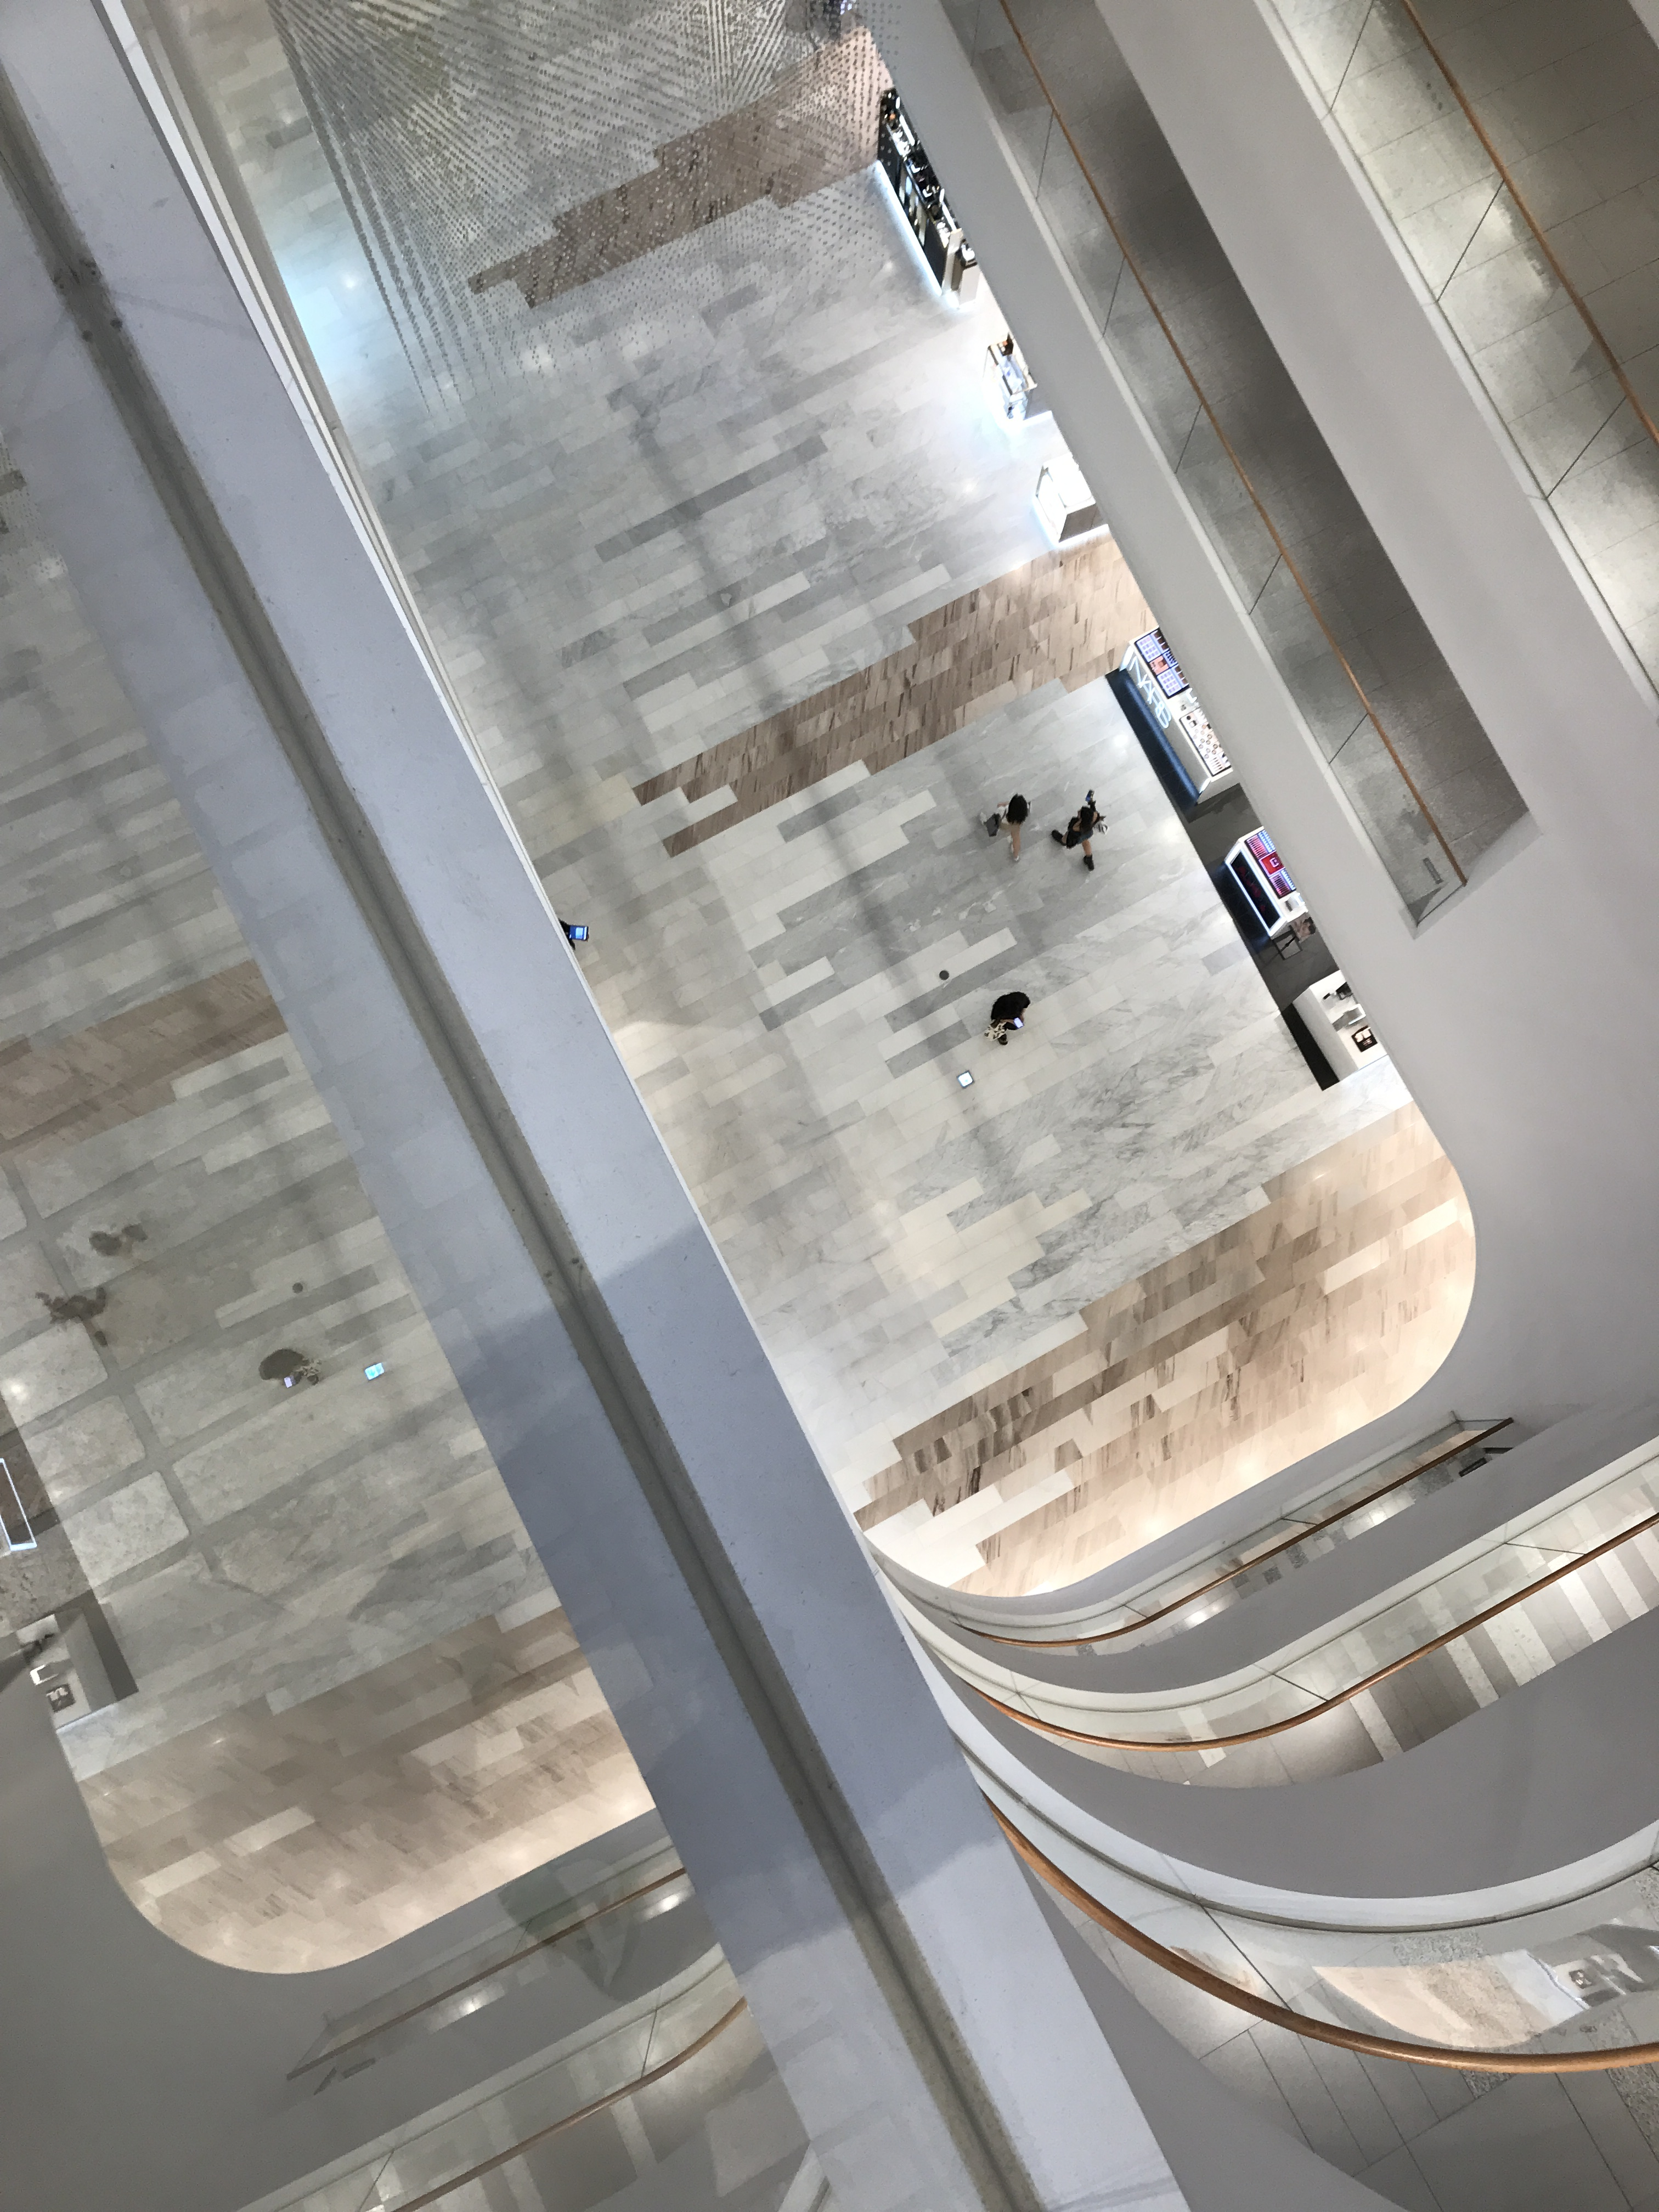person: (1051, 788, 1110, 872), (977, 791, 1034, 864), (982, 988, 1033, 1047)
